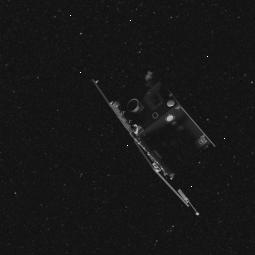proba_2: (79, 62, 225, 224)
